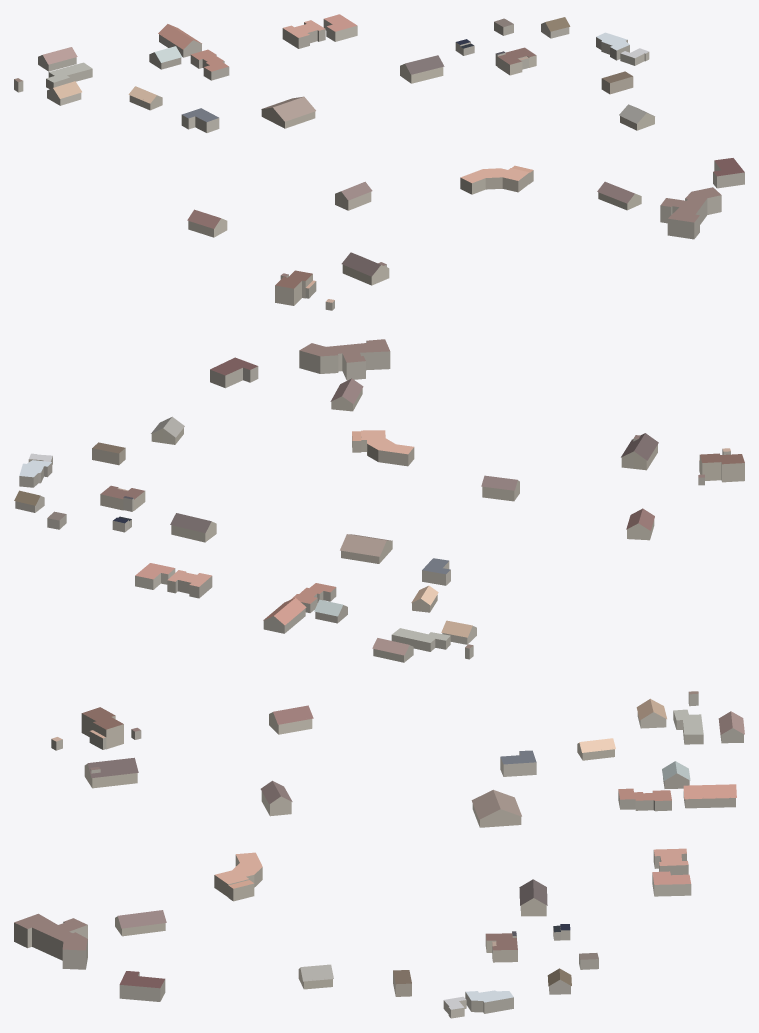
The picture shows the model from 3 angles, top to bottom: view 1: azimuth 30°, elevation 25°; view 2: azimuth 150°, elevation 25°; view 3: azimuth 270°, elevation 25°; orthographic projection. The views are drawn at different scales.
Visible parts, largest first — view 1: tuile; view 2: tuile; view 3: tuile.
Part boxes in pixels (x1,y1,x2,y2): tuile: (14, 14, 744, 310); tuile: (14, 339, 744, 662); tuile: (14, 691, 744, 1018).
Size of the model in its own units: 251 by 18.03 by 263.
